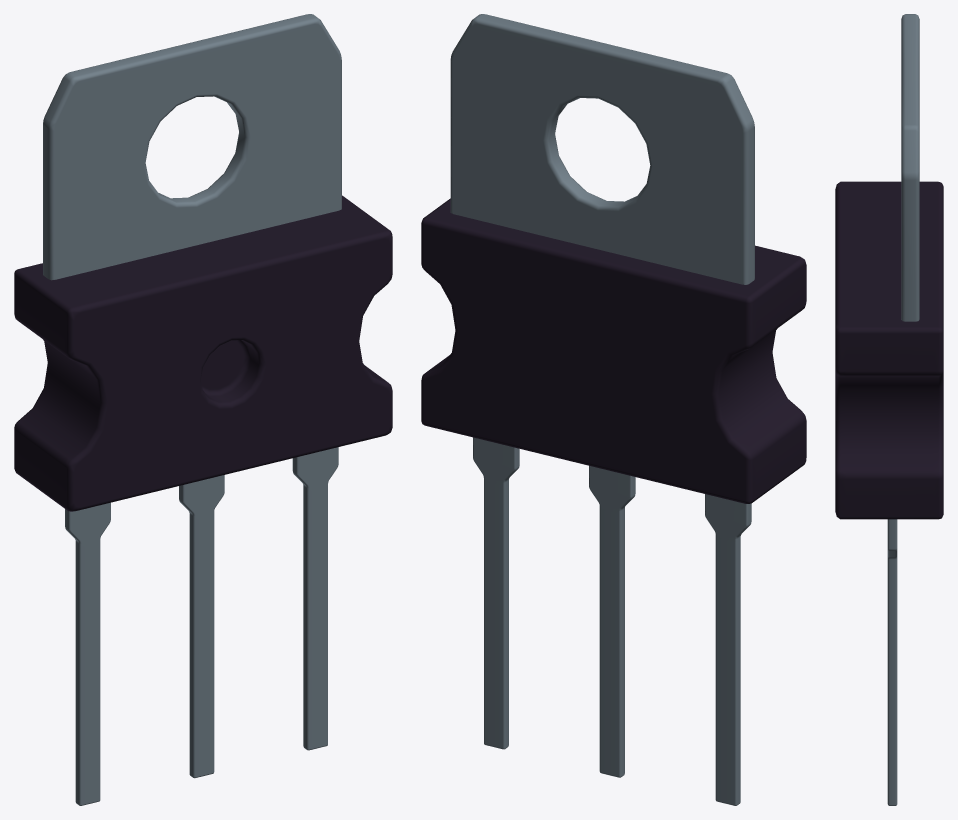
3 views of the same model, side by side, from view 1: azimuth 30°, elevation 25°; view 2: azimuth 150°, elevation 25°; view 3: azimuth 270°, elevation 25° (orthographic). The views are drawn at different scales.
Visible parts, largest first — view 1: body_004_mesh, plate_002_mesh, connector_leg_011_mesh, connector_leg_012_mesh, connector_leg_010_mesh; view 2: body_004_mesh, plate_002_mesh, connector_leg_011_mesh, connector_leg_012_mesh, connector_leg_010_mesh; view 3: body_004_mesh, plate_002_mesh, connector_leg_010_mesh.
Boxes of the visible parts, left/top/right/bottom form: body_004_mesh: left=14, top=195, right=392, bottom=511; plate_002_mesh: left=43, top=14, right=341, bottom=280; connector_leg_011_mesh: left=65, top=502, right=110, bottom=805; connector_leg_012_mesh: left=179, top=475, right=224, bottom=778; connector_leg_010_mesh: left=292, top=447, right=338, bottom=750; body_004_mesh: left=421, top=198, right=806, bottom=503; plate_002_mesh: left=450, top=14, right=754, bottom=284; connector_leg_011_mesh: left=705, top=494, right=751, bottom=805; connector_leg_012_mesh: left=589, top=465, right=635, bottom=777; connector_leg_010_mesh: left=473, top=437, right=519, bottom=749; body_004_mesh: left=835, top=181, right=943, bottom=519; plate_002_mesh: left=901, top=14, right=919, bottom=321; connector_leg_010_mesh: left=887, top=519, right=897, bottom=805.
Size of the model in its own units: 1.48 by 3.14 by 0.4529.
